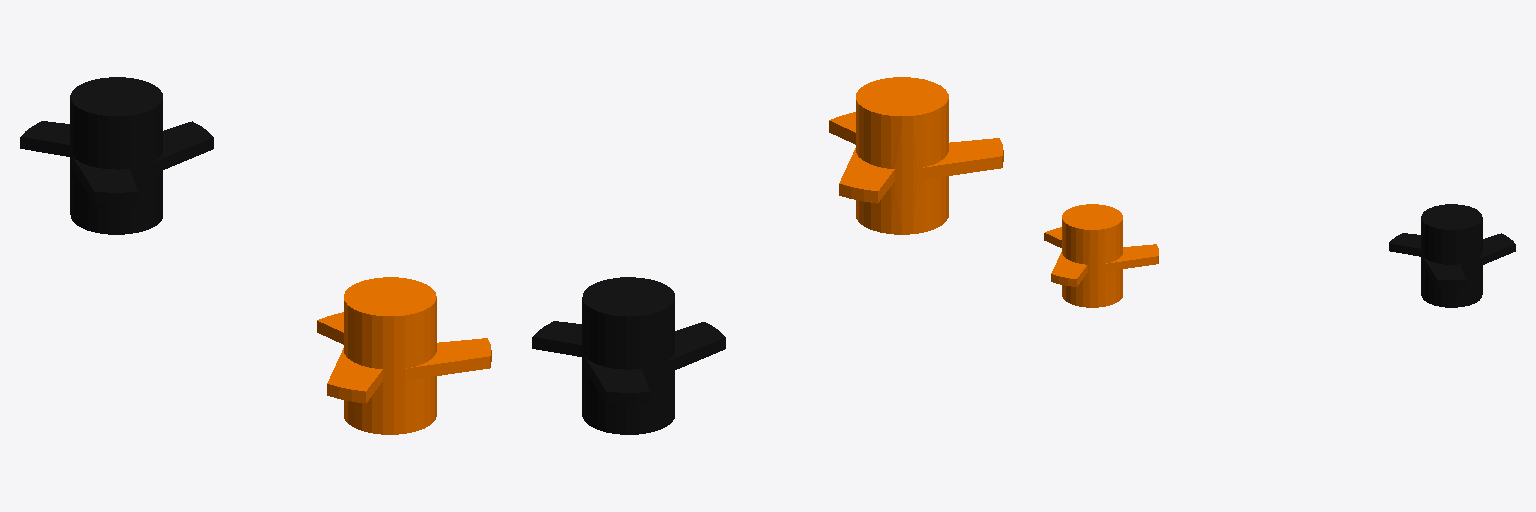
URDF robot description (salvavidas):
<?xml version="1.0" encoding="utf-8"?>
<robot name="salvavidas">

  <!-- ===== Root sin inercia (silencia KDL) ===== -->
  <link name="base_footprint"/>
  <joint name="base_footprint_to_base_link" type="fixed">
    <origin xyz="0 0 0" rpy="0 0 0"/>
    <parent link="base_footprint"/>
    <child link="base_link"/>
  </joint>

  <!-- ===================== BASE LINK ===================== -->
  <link name="base_link">
    <inertial>
      <origin xyz="-0.106258061307324 0.00000371036183159645 -0.0466890838025706" rpy="0 0 0"/>
      <mass value="3.08247750849359"/>
      <inertia ixx="0.0175508684929873" ixy="-0.000000330546111050191" ixz="0.000135278850421253"
               iyy="0.0135585176715858" iyz="-0.000000721045529733759" izz="0.0258145316640443"/>
    </inertial>

    <!-- VISUAL -->
    <visual>
      <origin xyz="0 0 0" rpy="0 0 0"/>
      <geometry>
        <mesh filename="package://hyper_teleop/meshes/base_link.STL"/>
      </geometry>
      <material name="blue"><color rgba="0.1 0.4 0.9 1"/></material>
    </visual>

    <!-- COLLISION: levanta un poco la “panza” para que NO arrastre -->
    <!-- Reduce altura y súbela 1 cm para asegurar que SOLO las ruedas tocan -->
    <collision>
      <origin xyz="0 0 0.01" rpy="0 0 0"/>
      <geometry>
        <box size="0.50 0.50 0.12"/>
      </geometry>
    </collision>
  </link>

  <!-- ===================== LEFT TURBINE (rueda) ===================== -->
  <link name="left">
    <inertial>
      <origin xyz="0 0 0" rpy="0 0 0"/>
      <mass value="0.0529571018322495"/>
      <inertia ixx="1.52970588241584e-05" ixy="0" ixz="0"
               iyy="1.52970588241584e-05" iyz="0" izz="1.1704627253208e-05"/>
    </inertial>

    <!-- VISUAL (mesh) -->
    <visual>
      <origin xyz="0 0 0" rpy="0 0 0"/>
      <geometry>
        <mesh filename="package://hyper_teleop/meshes/left.STL"/>
      </geometry>
      <material name="black"><color rgba="0.1 0.1 0.1 1"/></material>
    </visual>

    <!-- COLLISION: cilindro con eje +Y (rotar 90° en X) -->
    <collision>
      <origin xyz="0 0 0" rpy="1.57079632679 0 0"/>
      <geometry>
        <!-- Aumenta el radio a 0.08 para contacto más claro -->
        <cylinder radius="0.08" length="0.20"/>
      </geometry>
    </collision>
  </link>

  <joint name="left_turbine" type="continuous">
    <origin xyz="-0.228  0.1025 -0.04708" rpy="0 0 0"/>
    <parent link="base_link"/>
    <child link="left"/>
    <!-- Eje de giro en +Y -->
    <axis xyz="0 1 0"/>
  </joint>

  <!-- ===================== RIGHT TURBINE (rueda) ===================== -->
  <link name="right">
    <inertial>
      <origin xyz="0 0 0" rpy="0 0 0"/>
      <mass value="0.0529571018322495"/>
      <inertia ixx="1.52970588241584e-05" ixy="0" ixz="0"
               iyy="1.52970588241583e-05" iyz="0" izz="1.1704627253208e-05"/>
    </inertial>

    <!-- VISUAL -->
    <visual>
      <origin xyz="0 0 0" rpy="0 0 0"/>
      <geometry>
        <mesh filename="package://hyper_teleop/meshes/right.STL"/>
      </geometry>
      <material name="black"><color rgba="1.0 0.5 0.0 1.0"/></material>
    </visual>

    <!-- COLLISION: cilindro con eje +Y (rotar 90° en X) -->
    <collision>
      <origin xyz="0 0 0" rpy="1.57079632679 0 0"/>
      <geometry>
        <cylinder radius="0.08" length="0.20"/>
      </geometry>
    </collision>
  </link>

  <joint name="right_turbine" type="continuous">
    <origin xyz="-0.228 -0.1025 -0.04708" rpy="0 0 0"/>
    <parent link="base_link"/>
    <child link="right"/>
    <axis xyz="0 1 0"/>
  </joint>

  <!-- ===================== GAZEBO (GZ) ===================== -->
  <gazebo>
    <!-- DiffDrive moderno -->
    <plugin filename="libgz-sim-diff-drive-system.so" name="gz::sim::systems::DiffDrive">
      <left_joint>left_turbine</left_joint>
      <right_joint>right_turbine</right_joint>
      <wheel_separation>0.21</wheel_separation>
      <wheel_radius>0.08</wheel_radius>
      <odom_publish_frequency>50</odom_publish_frequency>
      <topic>/cmd_vel</topic>
      <odom_topic>/odom</odom_topic>
      <frame_id>odom</frame_id>
      <!-- >>> child en base_footprint para que tus viewers no pidan base_footprin(t) -->
      <child_frame_id>base_footprint</child_frame_id>
      <max_linear_velocity>2.2</max_linear_velocity>
      <max_angular_velocity>1.5</max_angular_velocity>
    </plugin>

    <!-- Pose Publisher -->
    <plugin filename="libgz-sim-pose-publisher-system.so" name="gz::sim::systems::PosePublisher">
      <publish_link_pose>true</publish_link_pose>
      <publish_collision_pose>false</publish_collision_pose>
      <publish_visual_pose>false</publish_visual_pose>
      <publish_nested_model_pose>false</publish_nested_model_pose>
    </plugin>

    <!-- Joint State Publisher -->
    <plugin filename="libgz-sim-joint-state-publisher-system.so" name="gz::sim::systems::JointStatePublisher">
      <topic>/joint_states</topic>
      <joint_name>left_turbine</joint_name>
      <joint_name>right_turbine</joint_name>
    </plugin>

    <!-- Wheel Slip: permite rotar sobre el eje (anisotropía) -->
    <plugin filename="libgz-sim-wheel-slip-system.so" name="gz::sim::systems::WheelSlip">
      <!-- Lateral: un poco de deslizamiento para girar; Longitudinal: más agarre -->
      <wheel link_name="left">
        <slip_compliance_lateral>0.05</slip_compliance_lateral>
        <slip_compliance_longitudinal>0.002</slip_compliance_longitudinal>
      </wheel>
      <wheel link_name="right">
        <slip_compliance_lateral>0.05</slip_compliance_lateral>
        <slip_compliance_longitudinal>0.002</slip_compliance_longitudinal>
      </wheel>
    </plugin>
  </gazebo>

  <!-- ===== Materiales y fricción ===== -->
  <!-- Baja fricción del cuerpo para que no “ancle” la rotación -->
  <gazebo reference="base_link">
    <material>Gazebo/Blue</material>
    <mu1>0.2</mu1>
    <mu2>0.2</mu2>
  </gazebo>

  <!-- Ruedas con buena fricción longitudinal -->
  <gazebo reference="left">
    <material>Gazebo/Black</material>
    <mu1>1.2</mu1>
    <mu2>1.2</mu2>
  </gazebo>
  <gazebo reference="right">
    <material>Gazebo/Black</material>
    <mu1>1.2</mu1>
    <mu2>1.2</mu2>
  </gazebo>

</robot>

--- What the picture shows (computed from the rendered views, not written in the file) ---
The picture shows the robot from 3 angles, left to right: view 1: azimuth 30°, elevation 25°; view 2: azimuth 150°, elevation 25°; view 3: azimuth 270°, elevation 25°; orthographic projection.
Robot: salvavidas — 4 links, 3 joints (2 continuous, 1 fixed); root link base_footprint; default pose: every joint at zero.
Visible links, largest first — view 1: left, right; view 2: left, right; view 3: left, right.
Link boxes in pixels (bbox=[...]): left: bbox=[20, 77, 213, 234]; right: bbox=[317, 277, 491, 434]; left: bbox=[532, 277, 725, 434]; right: bbox=[829, 77, 1003, 234]; left: bbox=[1389, 204, 1515, 307]; right: bbox=[1044, 204, 1158, 307].
Bounding box of the posed robot: 0.0733 × 0.2687 × 0.049 m (x, y, z).
Meshes: 3 distinct files referenced, 2 mesh visuals loaded (2 binary STL); not drawn: 1 (reference not matched to a file when rendering).